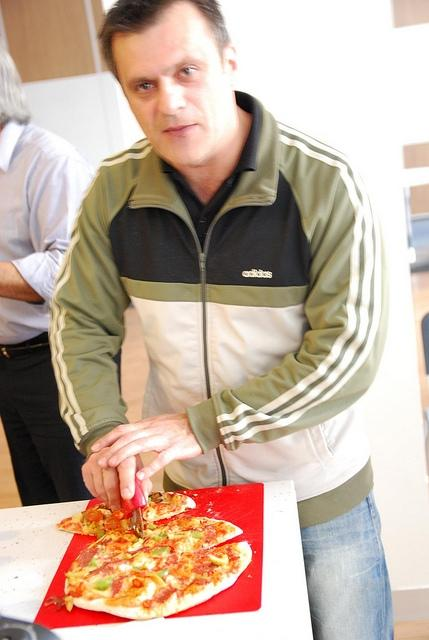bell pepper: (93, 576, 115, 590), (150, 546, 170, 557), (149, 570, 169, 578), (154, 532, 168, 540), (190, 532, 204, 538), (90, 557, 98, 567), (84, 514, 90, 526), (97, 532, 105, 539), (146, 524, 158, 528), (133, 566, 140, 572)
